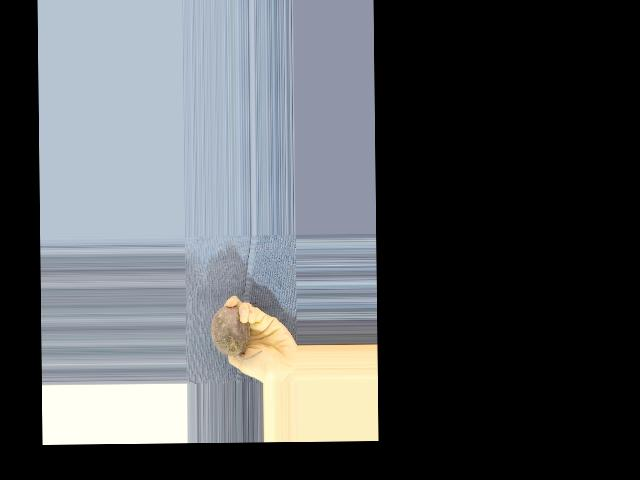beet: (211, 305, 263, 360)
